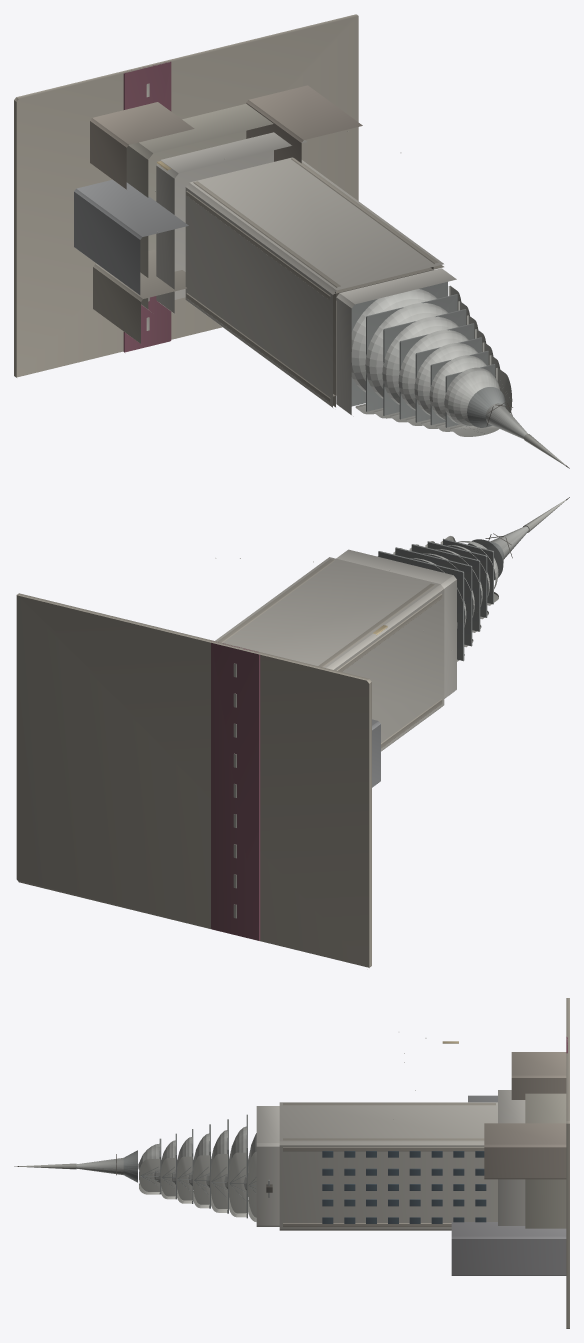
File: chrysler-building-v2.glb
3 views of the same model, one above another, from view 1: azimuth 30°, elevation 25°; view 2: azimuth 150°, elevation 25°; view 3: azimuth 270°, elevation 25° (orthographic). The views are drawn at different scales.
Parts seen in each view (by area): view 1: Ground, Main shaft, NYC companion_1, Lower setback, Podium, NYC companion_4, NYC companion_2, Shaft shoulder, Maroon divider road, NYC companion, Crown tier 1, Crown tier 2 (+16 smaller); view 2: Ground, Main shaft, Maroon divider road, Shaft shoulder, Crown cornice 4, Crown cornice 3, Crown cornice 5, Crown cornice 6, Corner pier_1, Corner pier, Crown cornice 7, Corner pier_3; view 3: Main shaft, NYC companion_3, NYC companion_4, Podium, Shaft shoulder, NYC companion_2, Lower setback, Ground, Side crown arch 2, Corner pier_3, Side crown arch 3, Side crown arch 4 (+8 smaller).
Boxes of the visible parts, x1=… form: Ground: x1=14, y1=14, x2=358, y2=377; Main shaft: x1=185, y1=157, x2=443, y2=408; NYC companion_1: x1=74, y1=179, x2=188, y2=294; Lower setback: x1=156, y1=132, x2=306, y2=314; Podium: x1=126, y1=103, x2=273, y2=312; NYC companion_4: x1=246, y1=85, x2=362, y2=163; NYC companion_2: x1=90, y1=102, x2=194, y2=190; Shaft shoulder: x1=336, y1=268, x2=456, y2=416; Maroon divider road: x1=123, y1=61, x2=171, y2=352; NYC companion: x1=93, y1=249, x2=186, y2=343; Crown tier 1: x1=351, y1=289, x2=437, y2=392; Crown tier 2: x1=365, y1=303, x2=447, y2=398; Ground: x1=16, y1=593, x2=371, y2=967; Main shaft: x1=215, y1=557, x2=444, y2=751; Maroon divider road: x1=211, y1=641, x2=260, y2=940; Shaft shoulder: x1=336, y1=549, x2=456, y2=698; Crown cornice 4: x1=395, y1=547, x2=472, y2=646; Crown cornice 3: x1=378, y1=551, x2=464, y2=661; Crown cornice 5: x1=411, y1=544, x2=480, y2=631; Crown cornice 6: x1=427, y1=541, x2=487, y2=617; Corner pier_1: x1=218, y1=559, x2=334, y2=642; Corner pier: x1=318, y1=583, x2=435, y2=667; Crown cornice 7: x1=443, y1=538, x2=493, y2=604; Corner pier_3: x1=336, y1=593, x2=442, y2=671; Main shaft: x1=279, y1=1102, x2=497, y2=1230; NYC companion_3: x1=451, y1=1222, x2=566, y2=1275; NYC companion_4: x1=484, y1=1123, x2=566, y2=1179; Podium: x1=525, y1=1093, x2=566, y2=1228; Shaft shoulder: x1=256, y1=1106, x2=279, y2=1226; NYC companion_2: x1=511, y1=1052, x2=566, y2=1099; Lower setback: x1=498, y1=1090, x2=525, y2=1225; Ground: x1=566, y1=998, x2=569, y2=1328; Side crown arch 2: x1=228, y1=1152, x2=246, y2=1213; Corner pier_3: x1=283, y1=1147, x2=484, y2=1151; Side crown arch 3: x1=210, y1=1154, x2=227, y2=1209; Side crown arch 4: x1=193, y1=1155, x2=209, y2=1205.
Bounding box in the file's own units: 54 × 42.06 × 102.
